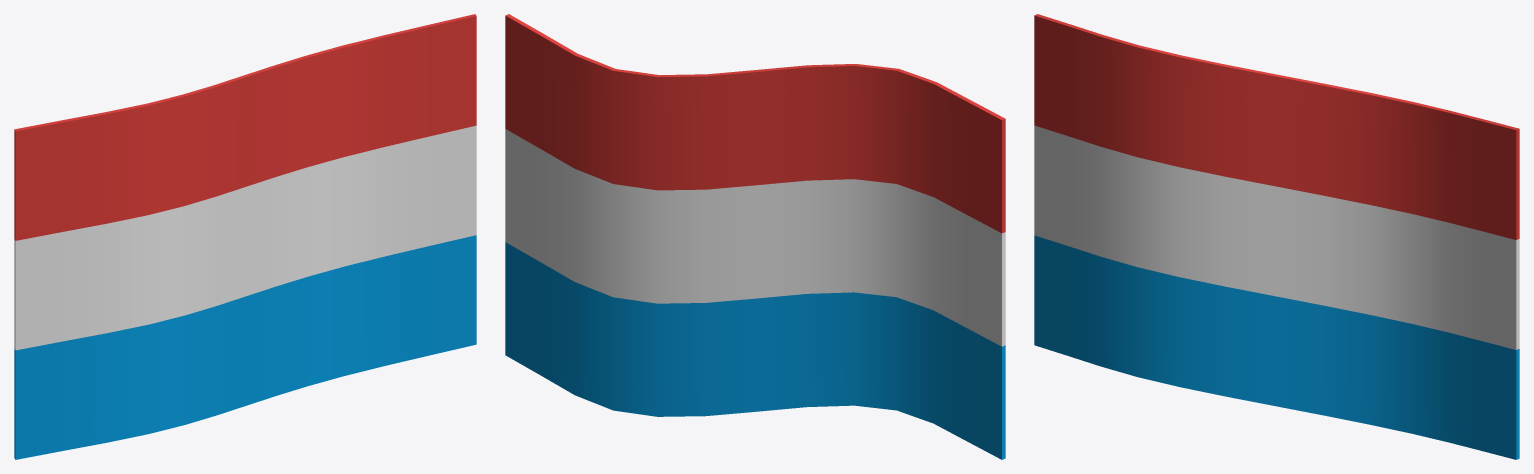
Rendered from flag_luxembourg.gltf.
3 views of the same model, side by side, from view 1: azimuth 30°, elevation 25°; view 2: azimuth 150°, elevation 25°; view 3: azimuth 330°, elevation 25° (orthographic). The views are drawn at different scales.
Parts seen in each view (by area): view 1: flag_luxembourg; view 2: flag_luxembourg; view 3: flag_luxembourg.
Part boxes in pixels (box(x1,y1,x2,y2)): flag_luxembourg: box(14, 14, 476, 459); flag_luxembourg: box(505, 14, 1005, 459); flag_luxembourg: box(1034, 14, 1519, 459).
Bounding box in the file's own units: 2.18 × 1.58 × 0.3373.
1 material, 1 textured.
